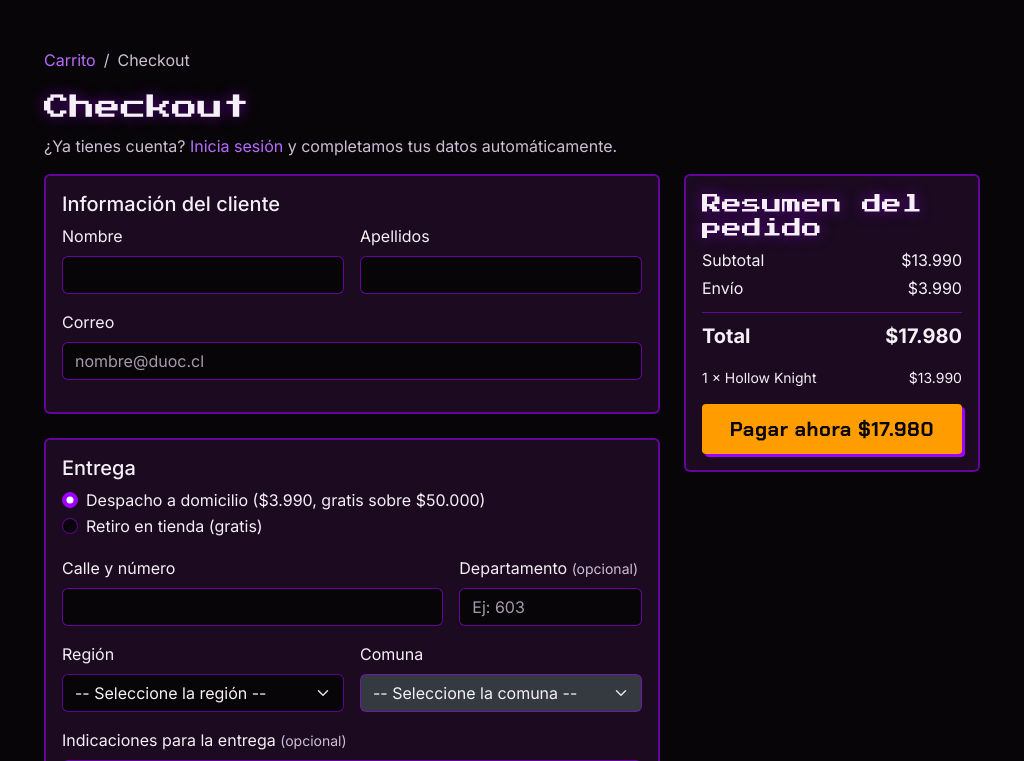
Test: Página Checkout › al elegir retiro en tienda oculta la dirección y el envío pasa a gratis
expect the field labelled "Calle y número" is shown: met, box [62,588,443,626]
Click the radio button labelled "Retiro en tienda (gratis)" at (70, 526), box [62,518,78,534]
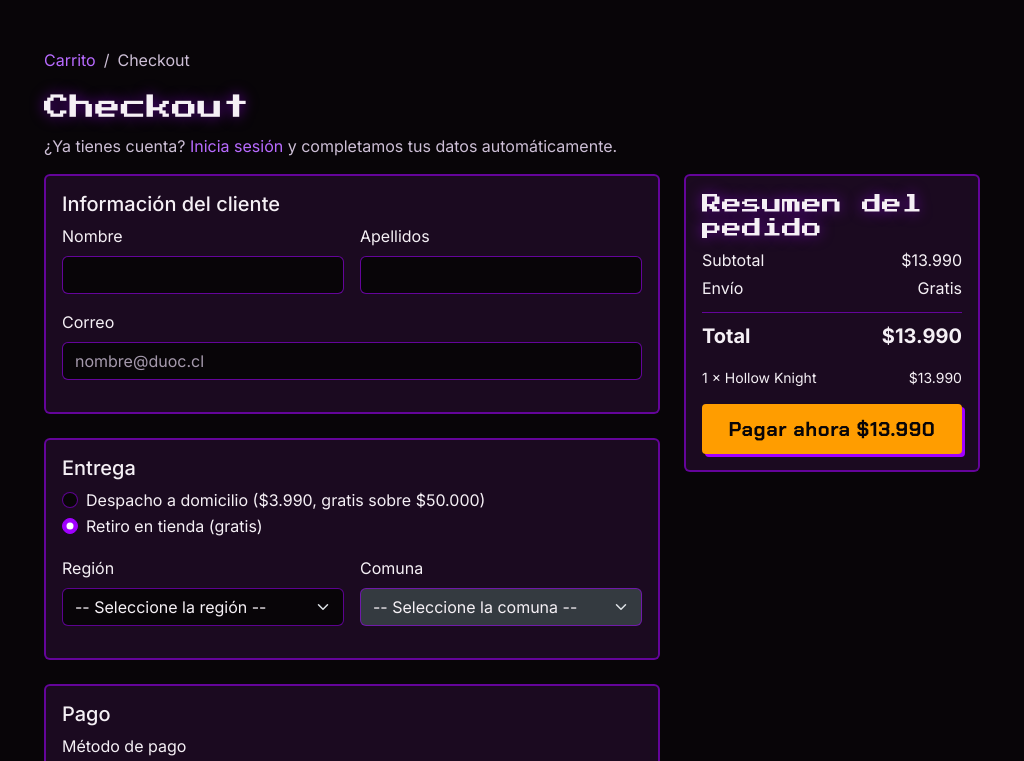
expect the label labelled "Calle y número" is gone: met
expect the text "Gratis" is shown: met, box [918,276,962,300]
